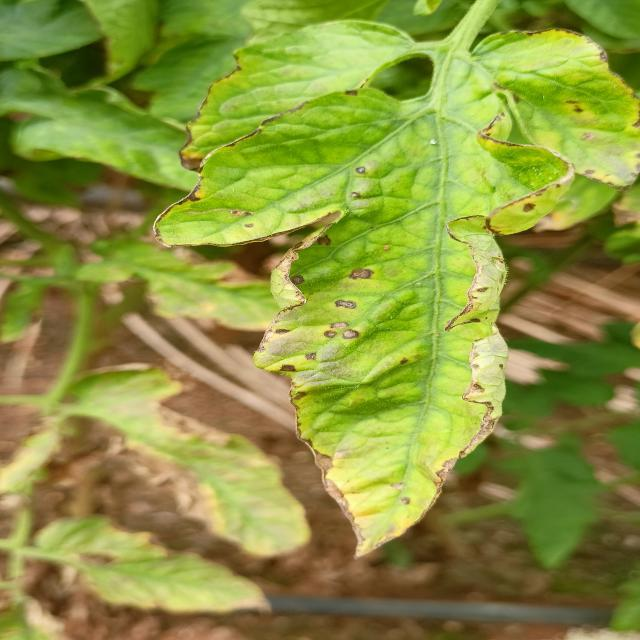Tomato mosaic virus leaf: (247, 222, 524, 564), (480, 34, 640, 191), (286, 139, 440, 224)
